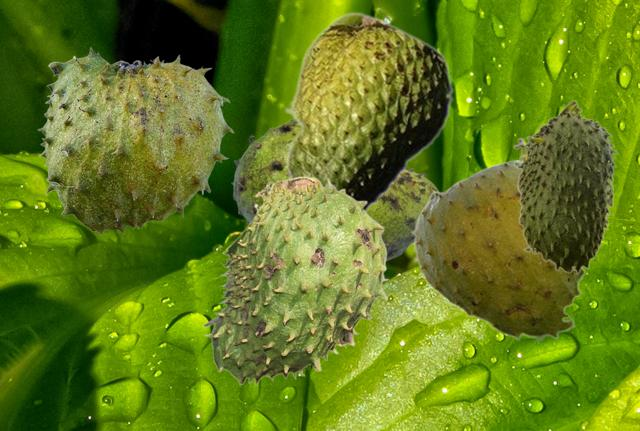guyabano: (202, 176, 388, 385), (37, 46, 233, 233), (283, 11, 453, 212), (410, 159, 585, 342), (231, 119, 438, 261), (513, 99, 618, 273)
